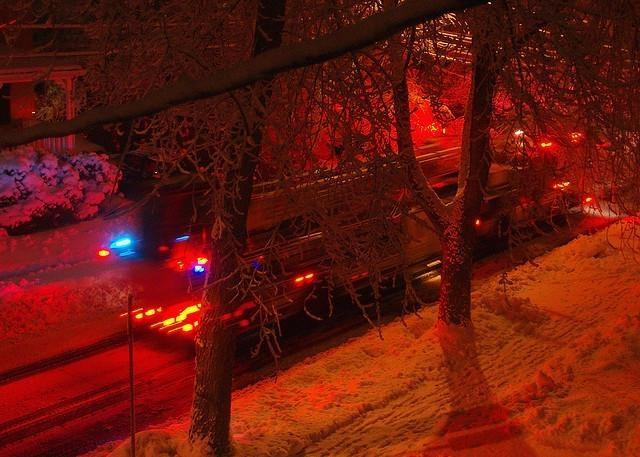truck: (99, 132, 590, 358)
